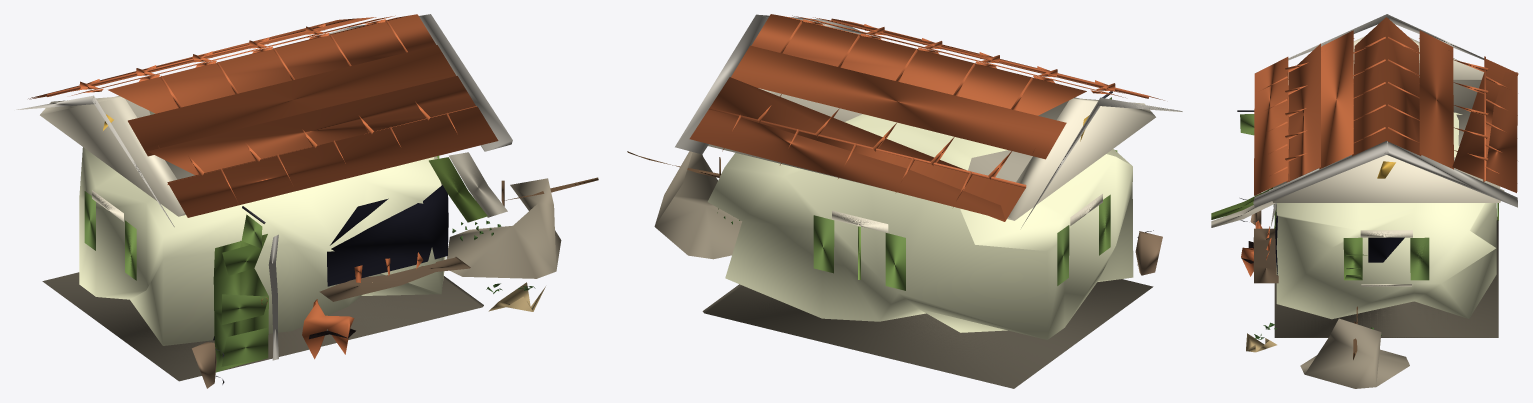
Rendered from biz_olive-press_t1.glb.
The picture shows the model from 3 angles, left to right: view 1: azimuth 30°, elevation 25°; view 2: azimuth 150°, elevation 25°; view 3: azimuth 270°, elevation 25°; orthographic projection. The views are drawn at different scales.
Visible parts, largest first — view 1: plaster, terracotta0, terracotta2, terracotta1, stone_dark, olive_wood, dark, cream, stone, marble, wood, terracotta (+3 smaller); view 2: plaster, terracotta2, stone_dark, terracotta0, terracotta1, cream, stone, olive_wood, marble, wood; view 3: plaster, terracotta0, terracotta2, terracotta1, cream, stone_dark, stone, marble, olive_wood, wood, dark, cloth_cream (+3 smaller).
Boxes of the visible parts, left/top/right/bottom form: plaster: left=79, top=111, right=445, bottom=345; terracotta0: left=29, top=14, right=498, bottom=217; terracotta2: left=46, top=15, right=476, bottom=203; terracotta1: left=28, top=17, right=475, bottom=175; stone_dark: left=42, top=272, right=483, bottom=381; olive_wood: left=84, top=155, right=439, bottom=372; dark: left=213, top=185, right=448, bottom=340; cream: left=40, top=33, right=331, bottom=221; stone: left=446, top=178, right=561, bottom=278; marble: left=16, top=14, right=512, bottom=360; wood: left=192, top=257, right=470, bottom=388; terracotta: left=302, top=252, right=423, bottom=359; plaster: left=707, top=114, right=1133, bottom=339; terracotta2: left=709, top=15, right=1148, bottom=207; stone_dark: left=702, top=279, right=1153, bottom=388; terracotta0: left=741, top=14, right=1164, bottom=221; terracotta1: left=689, top=17, right=1124, bottom=219; cream: left=708, top=34, right=1155, bottom=232; stone: left=654, top=151, right=742, bottom=259; olive_wood: left=813, top=97, right=1117, bottom=290; marble: left=675, top=14, right=1182, bottom=227; wood: left=1135, top=231, right=1162, bottom=275; plaster: left=1276, top=112, right=1496, bottom=319; terracotta0: left=1254, top=17, right=1518, bottom=195; terracotta2: left=1255, top=30, right=1510, bottom=181; terracotta1: left=1286, top=43, right=1517, bottom=192; cream: left=1269, top=36, right=1504, bottom=286; stone_dark: left=1274, top=217, right=1498, bottom=337; stone: left=1300, top=318, right=1409, bottom=388; marble: left=1253, top=14, right=1517, bottom=227; olive_wood: left=1240, top=114, right=1498, bottom=280; wood: left=1250, top=193, right=1278, bottom=283; dark: left=1275, top=204, right=1404, bottom=275; cloth_cream: left=1211, top=201, right=1275, bottom=227.
Size of the model in its own units: 8.73 by 4.22 by 5.87.
